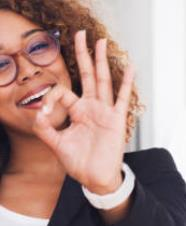left: (32, 29, 133, 185)
